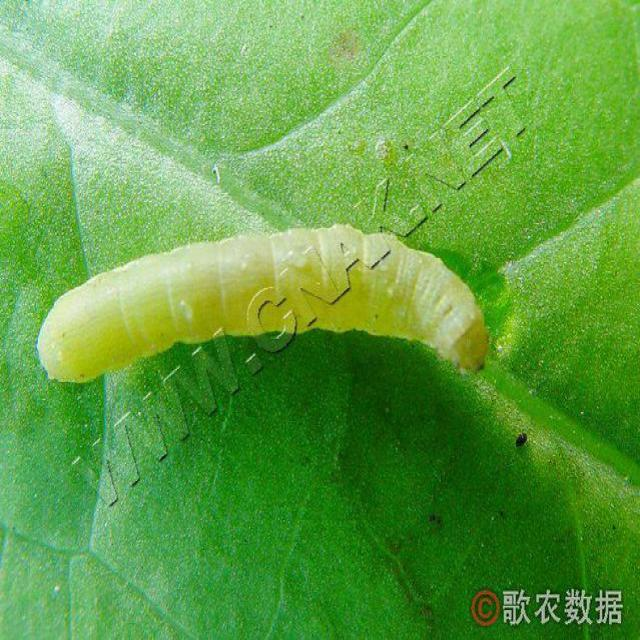BeetArmyWorm-Larva-: (33, 221, 500, 397)
